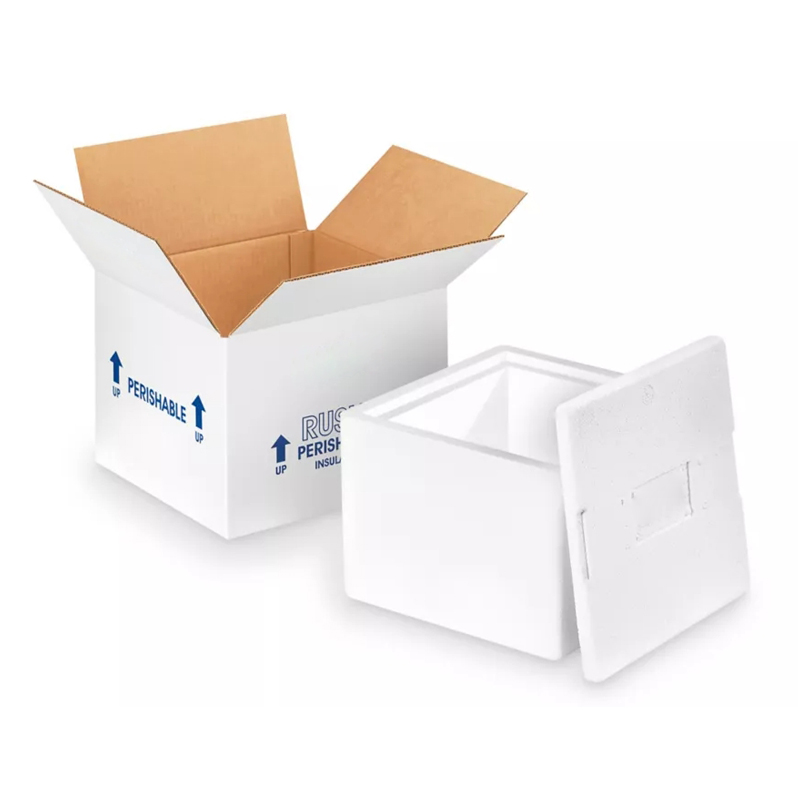Boxes: (340, 339, 747, 681)
